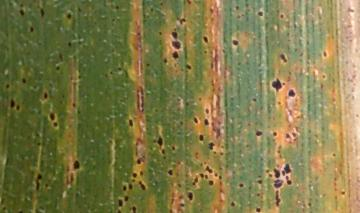tarspot: (210, 120, 222, 142), (270, 76, 283, 95), (136, 86, 144, 113), (34, 173, 43, 192), (168, 189, 175, 213), (276, 142, 284, 161), (295, 107, 305, 122), (287, 86, 296, 101), (273, 188, 280, 207), (272, 178, 284, 189), (278, 51, 288, 64), (169, 40, 183, 49), (156, 135, 165, 149), (282, 161, 292, 173), (137, 179, 147, 191), (272, 166, 281, 179), (47, 110, 56, 123), (41, 89, 49, 102), (201, 35, 211, 45), (204, 164, 214, 174), (8, 98, 17, 109), (254, 128, 263, 138), (206, 141, 215, 151), (171, 49, 179, 60), (73, 158, 80, 170), (231, 38, 240, 47), (184, 62, 193, 71), (127, 119, 136, 128), (320, 49, 328, 59), (202, 117, 210, 127), (38, 7, 46, 17), (58, 50, 64, 63), (286, 70, 292, 83), (65, 11, 72, 22), (346, 6, 355, 14), (285, 177, 293, 186), (178, 18, 187, 26), (187, 190, 193, 202), (135, 157, 143, 166), (190, 177, 198, 186), (192, 115, 199, 125), (167, 168, 174, 178), (131, 169, 138, 179), (319, 81, 326, 91), (15, 102, 21, 113), (128, 182, 134, 193), (69, 172, 75, 183), (320, 72, 327, 81), (278, 12, 285, 21), (171, 31, 178, 40), (204, 106, 211, 115), (52, 120, 59, 129), (117, 198, 123, 208), (65, 173, 70, 185), (148, 6, 155, 14), (18, 8, 25, 16), (20, 77, 27, 85), (54, 64, 61, 72), (123, 195, 130, 203), (33, 132, 41, 139), (244, 142, 251, 150), (286, 108, 293, 116), (291, 129, 297, 138), (198, 133, 204, 142), (131, 204, 137, 213), (208, 5, 214, 14), (224, 162, 230, 171), (331, 95, 337, 104), (194, 151, 199, 161), (65, 162, 70, 172), (330, 151, 337, 158), (339, 189, 346, 196), (271, 130, 278, 137), (285, 132, 292, 139), (202, 48, 209, 55), (18, 2, 25, 9), (221, 48, 228, 55), (219, 143, 226, 150), (255, 205, 261, 213), (255, 179, 263, 185), (276, 98, 282, 106), (208, 179, 214, 187), (257, 10, 265, 16), (234, 4, 240, 12), (170, 144, 176, 152), (114, 3, 120, 11), (183, 99, 189, 107), (103, 71, 109, 79), (258, 155, 264, 163), (246, 120, 252, 128), (311, 58, 317, 66), (244, 14, 250, 22), (197, 162, 205, 168), (280, 168, 285, 177), (159, 150, 168, 155), (229, 200, 235, 207), (238, 182, 244, 189), (255, 192, 262, 198), (251, 97, 257, 104), (217, 174, 224, 180), (71, 101, 77, 108), (28, 26, 35, 32), (66, 40, 72, 47), (138, 169, 144, 176), (198, 171, 204, 178), (177, 193, 184, 199), (178, 119, 185, 125), (175, 97, 182, 103), (152, 107, 158, 114), (298, 51, 305, 57), (110, 16, 116, 23), (76, 5, 82, 12), (217, 165, 223, 172), (230, 170, 237, 176), (285, 30, 291, 37), (135, 30, 141, 37), (185, 1, 193, 6), (163, 57, 168, 65), (122, 184, 127, 192), (197, 95, 202, 103), (292, 22, 297, 30), (291, 136, 297, 142), (264, 167, 270, 173), (158, 1, 164, 7), (116, 66, 122, 72), (161, 155, 167, 161), (72, 81, 76, 90), (209, 16, 215, 22), (76, 108, 82, 114), (354, 113, 359, 120), (307, 202, 314, 207), (284, 174, 291, 179), (158, 30, 163, 37), (5, 82, 10, 89), (130, 178, 137, 183), (203, 173, 208, 180), (218, 151, 225, 156), (36, 140, 41, 147), (76, 74, 83, 79), (293, 46, 298, 53), (298, 57, 303, 64), (305, 58, 310, 65), (235, 14, 242, 19), (285, 37, 292, 42), (44, 181, 49, 188), (244, 1, 248, 9), (257, 173, 262, 179), (281, 81, 287, 86), (179, 202, 184, 208), (68, 75, 73, 81), (305, 39, 310, 45), (16, 209, 23, 213), (268, 173, 273, 178), (145, 62, 150, 67), (176, 182, 181, 187), (109, 70, 114, 75), (236, 61, 241, 66), (116, 209, 122, 213), (176, 160, 181, 164)
